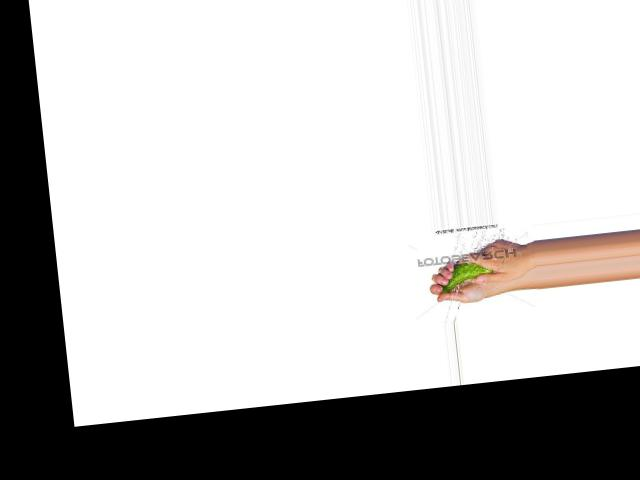cucumber: (437, 258, 496, 293)
